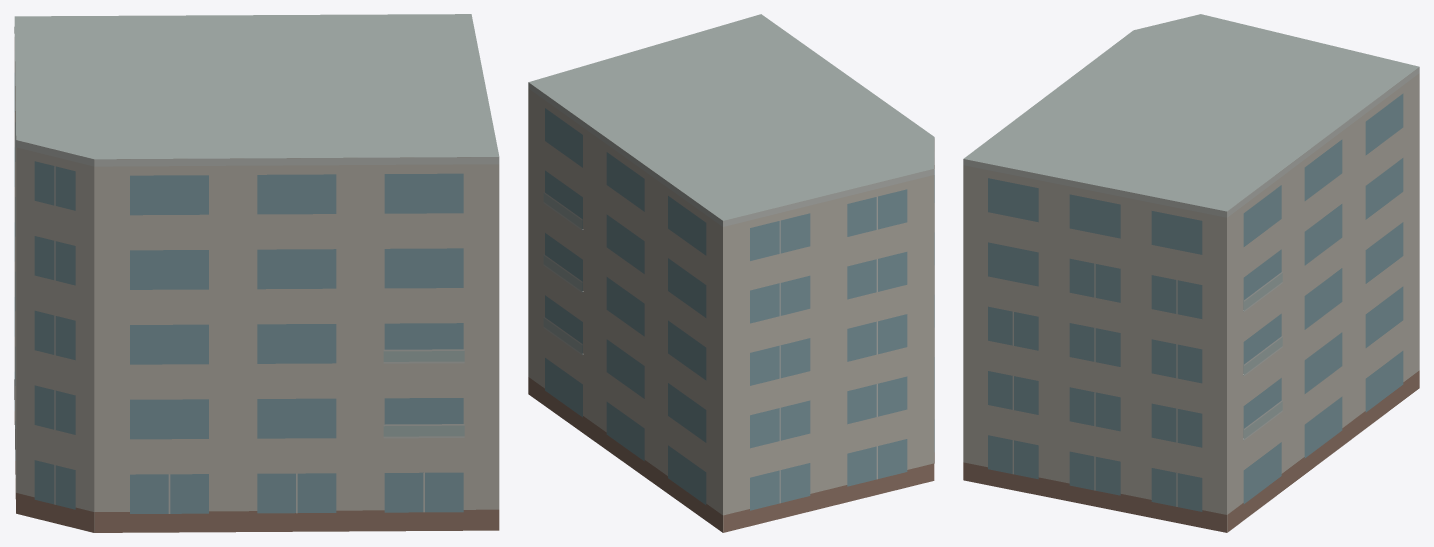
The model's file is survey-upis-32722730.glb.
3 views of the same model, side by side, from view 1: azimuth 30°, elevation 25°; view 2: azimuth 150°, elevation 25°; view 3: azimuth 270°, elevation 25° (orthographic). The views are drawn at different scales.
Parts seen in each view (by area): view 1: survey-upis-32722730.tmp; view 2: survey-upis-32722730.tmp; view 3: survey-upis-32722730.tmp.
Part boxes in pixels (x1,y1,x2,y2): survey-upis-32722730.tmp: (14,14,499,532); survey-upis-32722730.tmp: (528,14,934,532); survey-upis-32722730.tmp: (963,14,1419,532).
Size of the model in its own units: 16.37 by 12.41 by 15.98.
